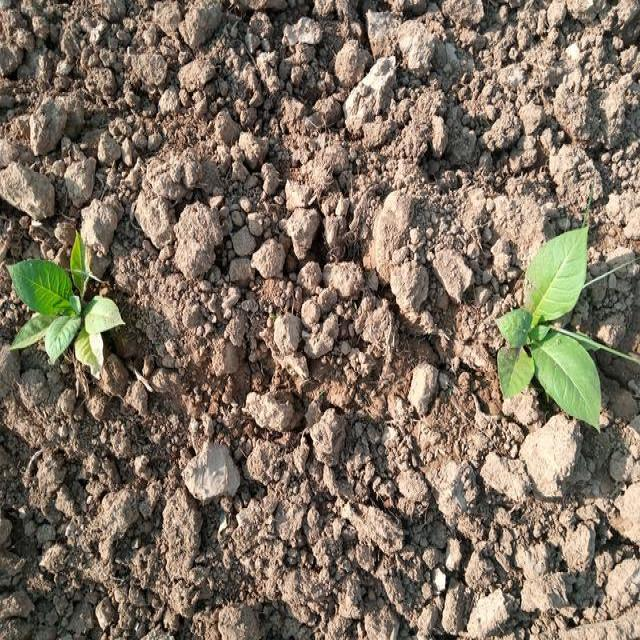crop: (497, 222, 603, 418), (2, 245, 113, 372)
